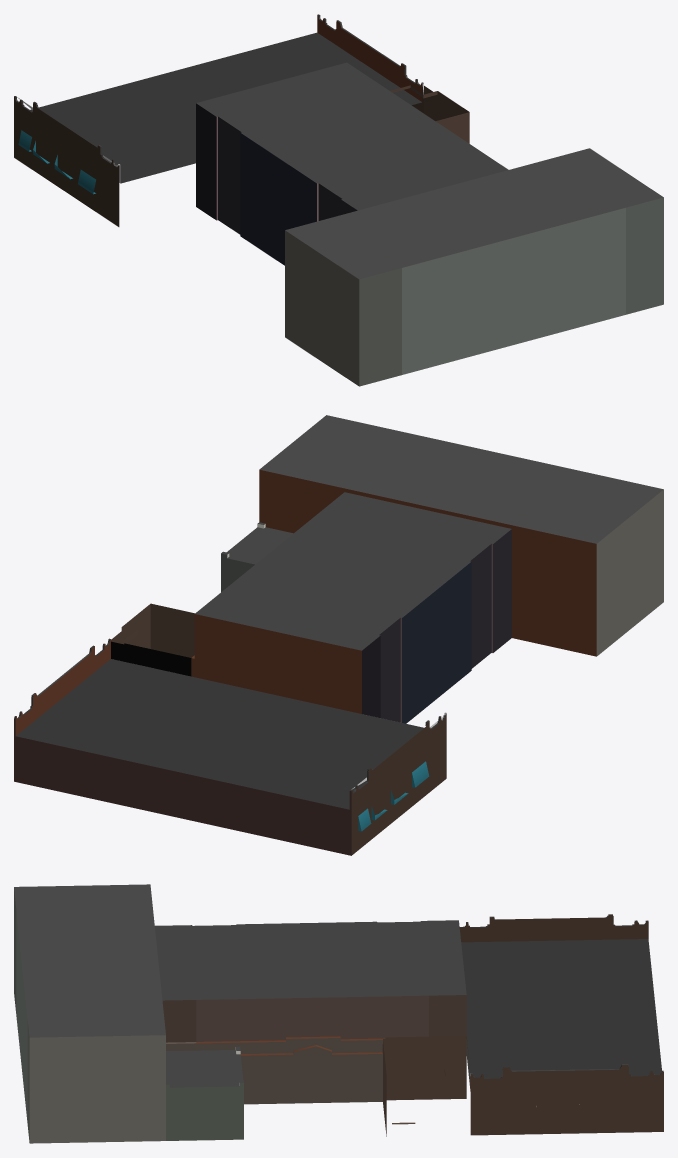
Rendered from 300-market-street.glb.
The picture shows the model from 3 angles, top to bottom: view 1: azimuth 30°, elevation 25°; view 2: azimuth 150°, elevation 25°; view 3: azimuth 270°, elevation 25°; orthographic projection. The views are drawn at different scales.
Visible parts, largest first — view 1: LOD0; view 2: LOD0; view 3: LOD0.
Boxes of the visible parts, x1=… form: LOD0: x1=14, y1=14, x2=663, y2=386; LOD0: x1=14, y1=415, x2=663, y2=855; LOD0: x1=14, y1=884, x2=663, y2=1143.
Size of what is drawn, in the model's own units: 66.92 by 20.2 by 112.
2 materials, 2 textured.
